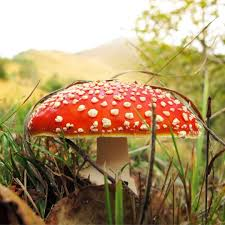Amanita muscaria: (16, 74, 210, 203)
